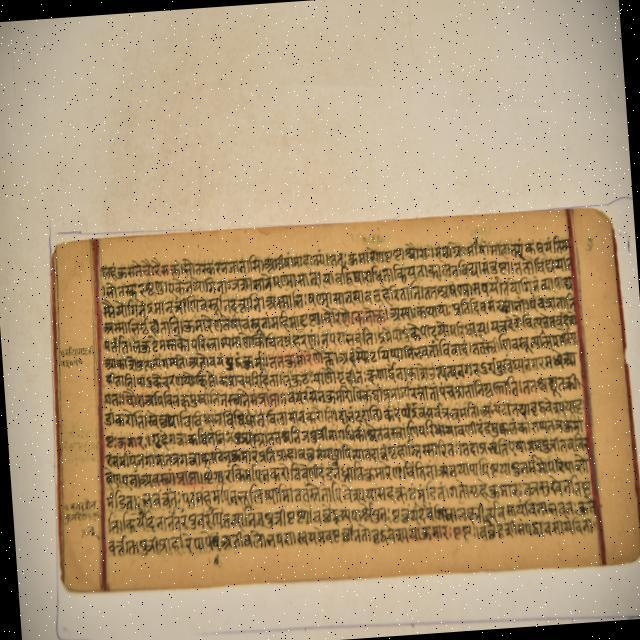text_paragraph: (51, 208, 639, 593)
